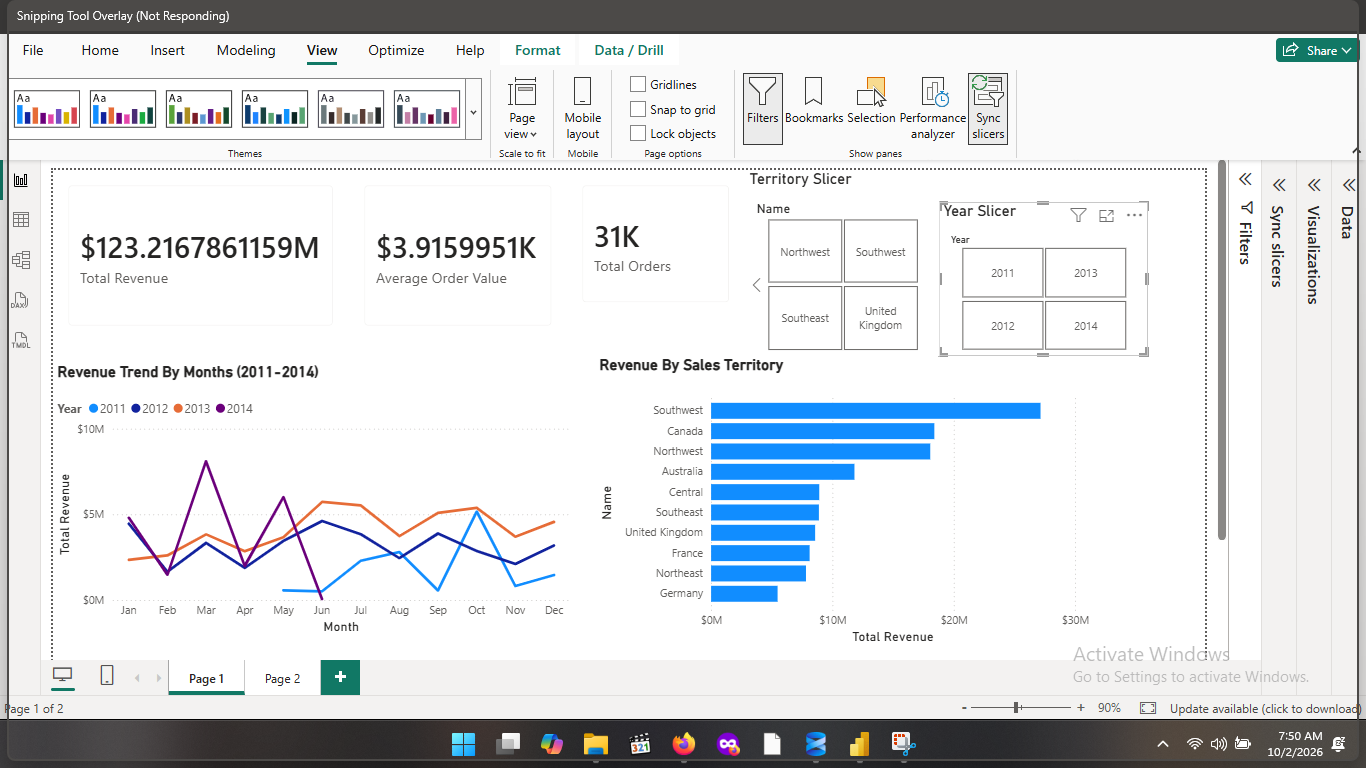

What the dashboard file says about the page in this screenshot:
{"tool":"powerbi","page":{"name":"Page 1","canvas":[1280,720],"ordinal":0},"visuals":[{"type":"cardVisual","fields":{"Data":["Sales SalesOrderHeader.Total Revenue"]},"box":[0,0,328.7,190.4],"z":0},{"type":"cardVisual","fields":{"Data":["Sales SalesOrderHeader.Total Orders"]},"box":[571.1,0,197.9,164.9],"z":1000},{"type":"cardVisual","fields":{"Data":["Sales SalesOrderHeader.Average Order Value"]},"box":[328.7,0,242.6,190.4],"z":2000},{"type":"lineChart","title":"Revenue Trend By Months (2011-2014)","fields":{"Category":["Date Table.Month"],"Y":["Sales SalesOrderHeader.Total Revenue"],"Series":["Date Table.Year"]},"box":[0,214.4,578.9,306.7],"z":3000},{"type":"clusteredBarChart","title":"Revenue By Sales Territory","fields":{"Category":["Sales SalesTerritory.Name"],"Y":["Sales SalesOrderHeader.Total Revenue"]},"box":[602.2,206.7,554.4,324.4],"z":4000},{"type":"slicer","title":"Year Slicer","fields":{"Values":["Date Table.Year"]},"box":[984.4,35.6,232.2,171.1],"z":7000},{"type":"slicer","title":"Territory Slicer","fields":{"Values":["Sales SalesTerritory.Name"]},"box":[768.9,0,215.6,206.7],"z":8000}]}

Visuals, with their boxes on the page's 1280x720 design canvas (x1, y1, x2, y2). These are canvas units, not pixel positions in the 1366x768 screenshot, which may show the page scaled, cropped or inside an application window:
cardVisual - Sales SalesOrderHeader.Total Revenue: select_region(0, 0, 329, 190)
cardVisual - Sales SalesOrderHeader.Total Orders: select_region(571, 0, 769, 165)
cardVisual - Sales SalesOrderHeader.Average Order Value: select_region(329, 0, 571, 190)
"Revenue Trend By Months (2011-2014)" lineChart: select_region(0, 214, 579, 521)
"Revenue By Sales Territory" clusteredBarChart: select_region(602, 207, 1157, 531)
"Year Slicer" slicer: select_region(984, 36, 1217, 207)
"Territory Slicer" slicer: select_region(769, 0, 984, 207)
